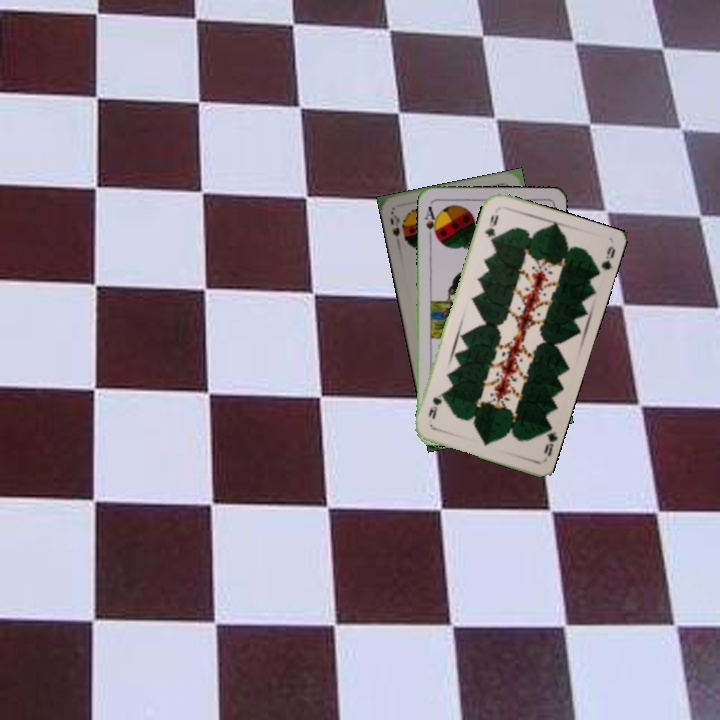G9: (539, 421, 560, 459), (480, 210, 501, 247)
SA: (421, 202, 441, 241)
SO: (386, 209, 402, 239)
